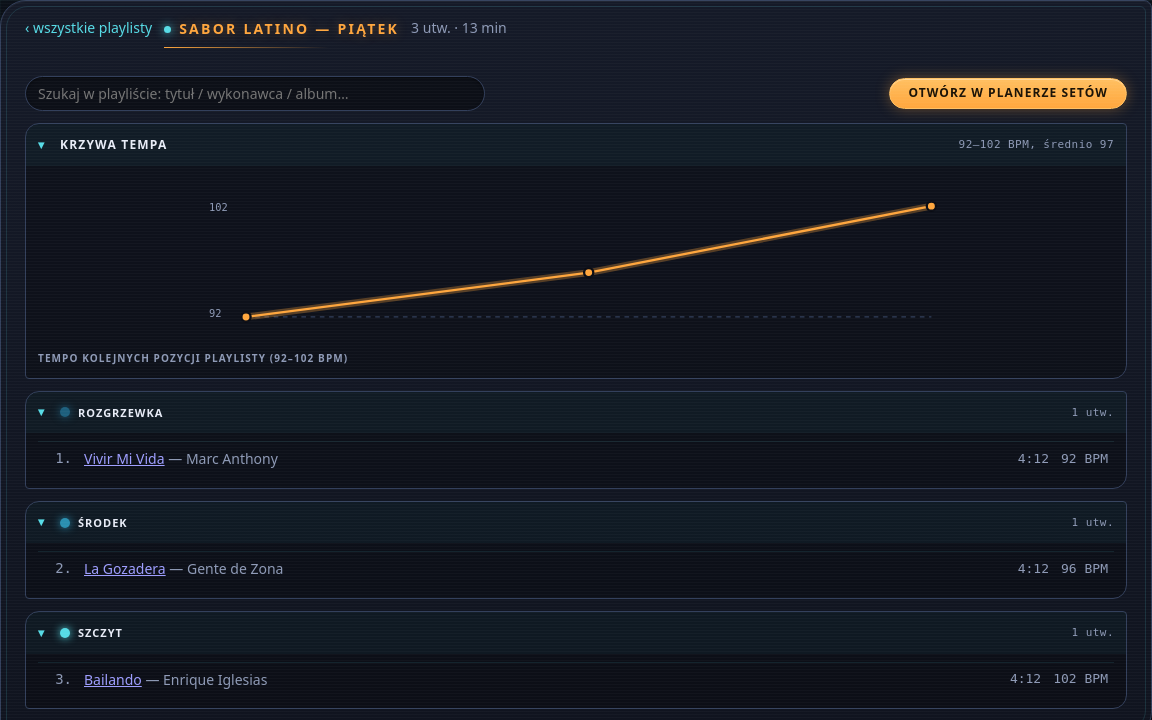
Scenario: PlaylistsRoute › szukanie w środku zawęża sekcje i podaje liczbę trafień
Expected: the element with test id "section-PEAK" is shown, [25,611,1127,709]
Type "gozadera" into the search field with test id "track-search" at [255, 93], box [25,76,485,111]
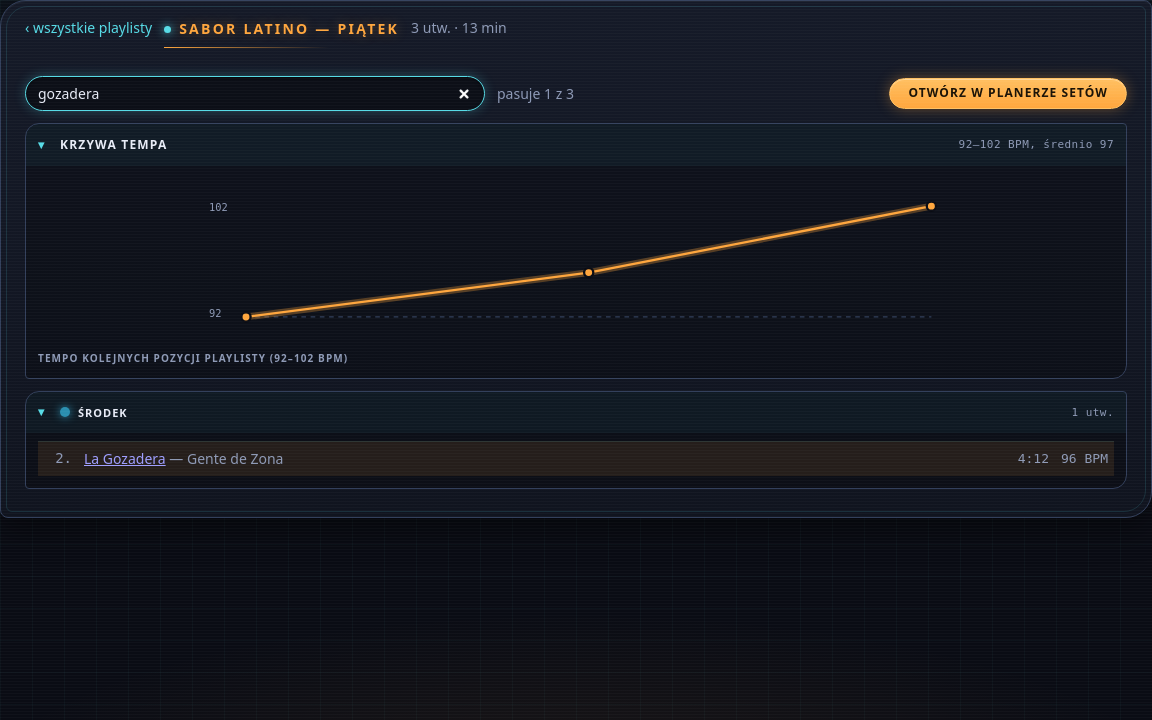
Expected: the element with test id "section-MIDDLE" is shown, [25,391,1127,489]
Result: the element with test id "section-PEAK" is gone
Result: the text with test id "track-search-summary" reads "pasuje 1 z 3" at [497,83,574,104]
